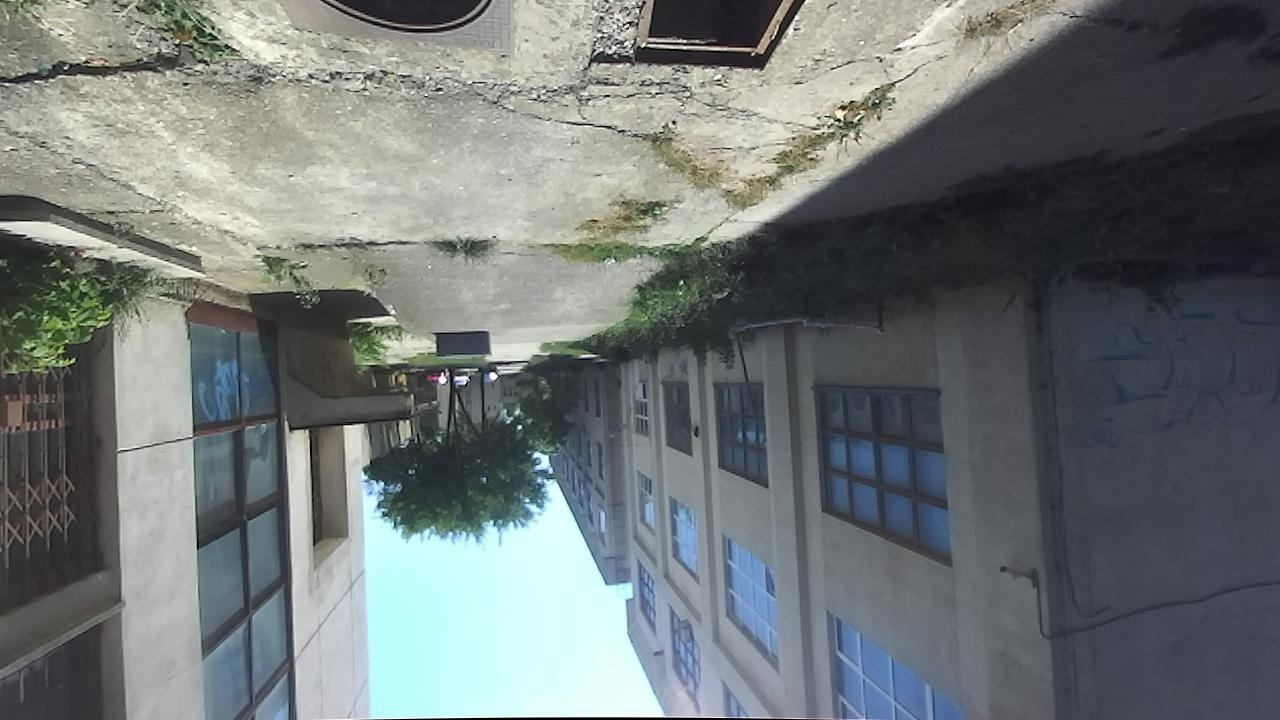drain: (633, 0, 807, 78), (312, 0, 509, 40)
